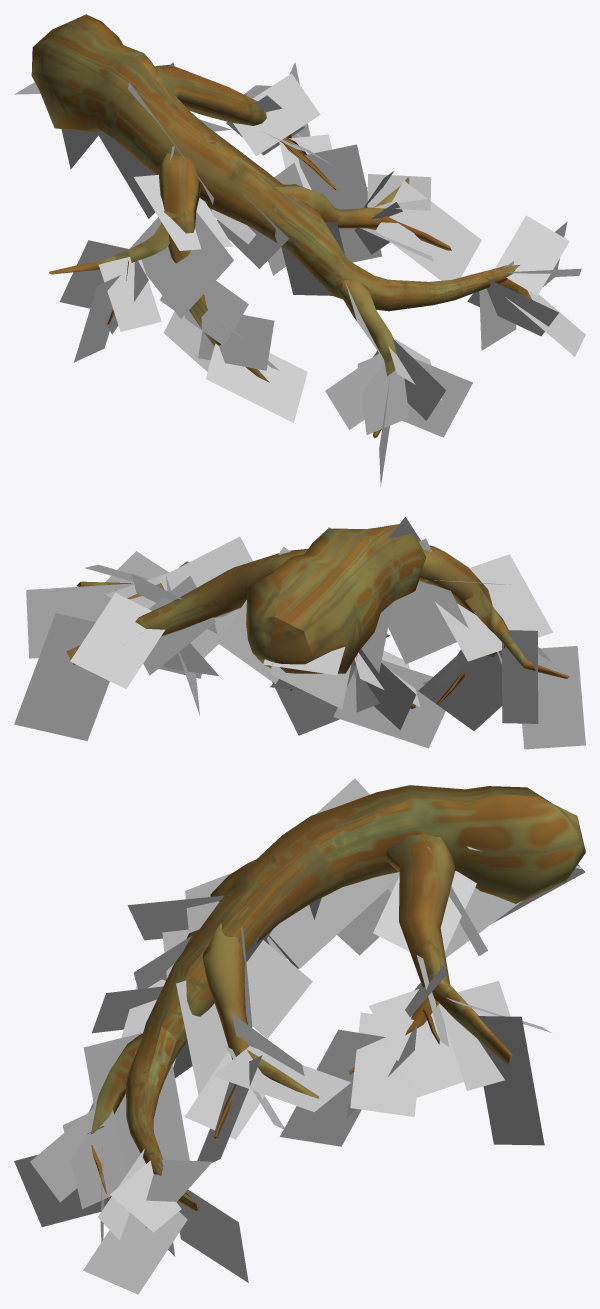
Rendered from env_forest_gianttree_root02_lod1.fbx.
The picture shows the model from 3 angles, top to bottom: view 1: azimuth 30°, elevation 25°; view 2: azimuth 150°, elevation 25°; view 3: azimuth 270°, elevation 25°; orthographic projection. The views are drawn at different scales.
Visible parts, largest first — view 1: root02_lod1; view 2: root02_lod1; view 3: root02_lod1.
Part boxes in pixels (bbox=[...]): root02_lod1: bbox=[14, 14, 585, 486]; root02_lod1: bbox=[14, 517, 585, 749]; root02_lod1: bbox=[14, 778, 585, 1294].
Bounding box in the file's own units: 65.04 × 41.59 × 56.
